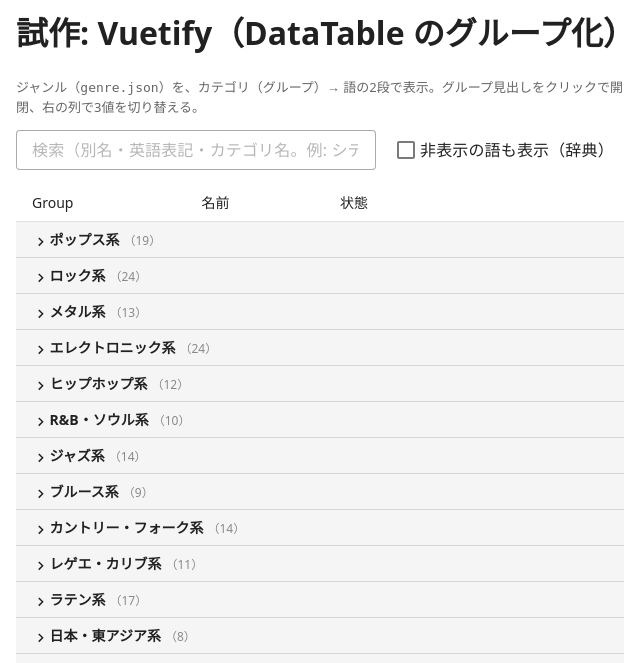
Test: Vuetify の DataTable（グループ化） › 検索（別名）で、該当グループだけが自動で開いて見える
The image size is (641, 663).
In the field with placeholder "検索（別名・英語表記・カテゴリ名。例: シティポップ）": (190, 150) [16, 130, 364, 170], type "シティポップ"
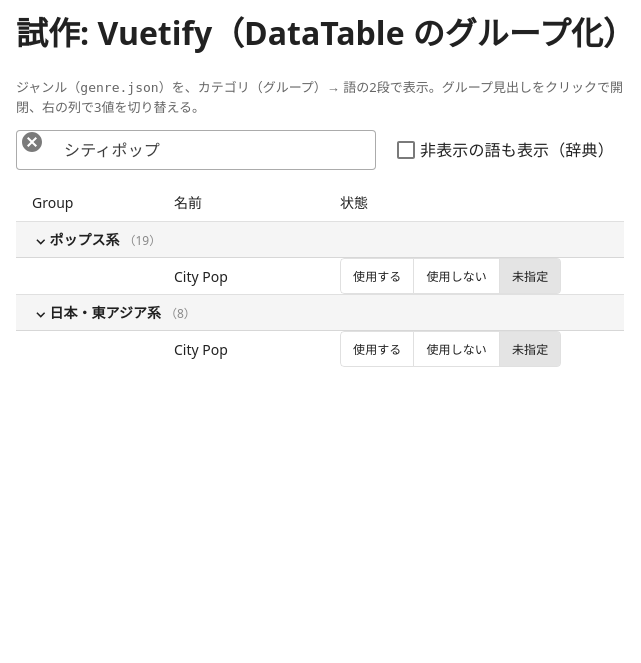
Expected: the text with test id "name-pop-family/city-pop" is shown, [174, 267, 228, 286]
Expected: the text with test id "name-east-asian-family/city-pop" is shown, [174, 340, 228, 359]
